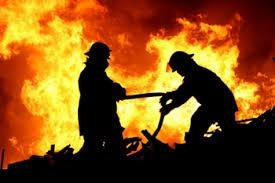fire: (0, 4, 89, 161)
